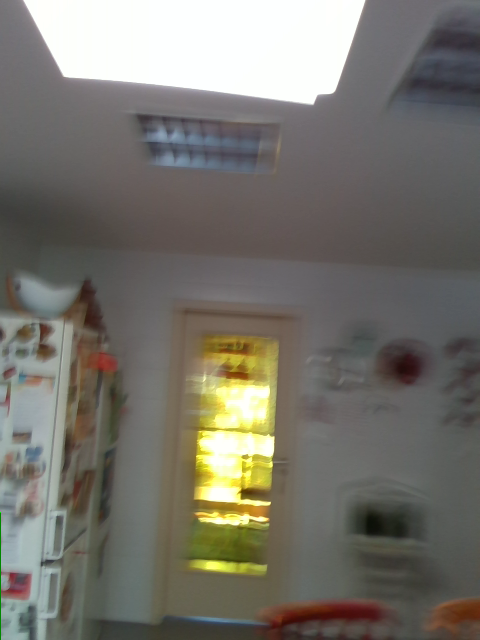closed: (155, 298, 302, 620)
